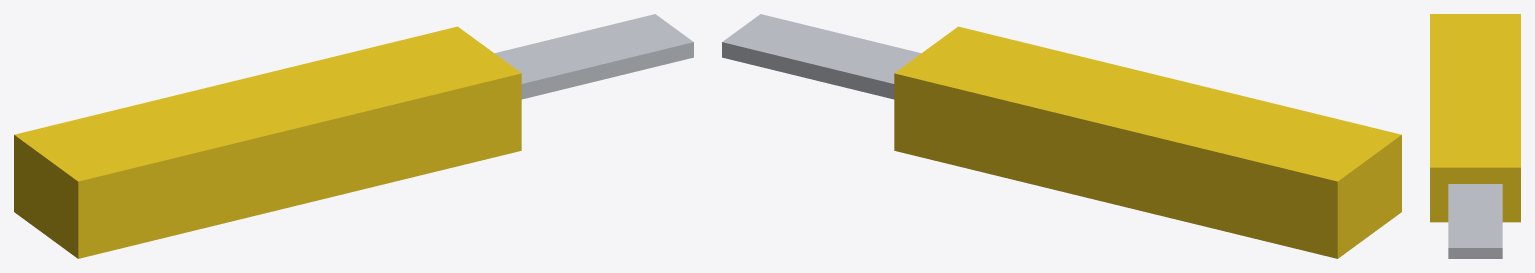
The model's file is carwash_cutter.glb.
3 renders of one model, left to right at view 1: azimuth 30°, elevation 25°; view 2: azimuth 150°, elevation 25°; view 3: azimuth 270°, elevation 25°, orthographic. The views are drawn at different scales.
Parts seen in each view (by area): view 1: handle_cutter_yellow, blade_cutter_blade; view 2: handle_cutter_yellow, blade_cutter_blade; view 3: handle_cutter_yellow, blade_cutter_blade.
Part boxes in pixels (<box>): handle_cutter_yellow: <box>14,26,521,258</box>; blade_cutter_blade: <box>495,14,693,99</box>; handle_cutter_yellow: <box>894,26,1401,258</box>; blade_cutter_blade: <box>722,14,920,99</box>; handle_cutter_yellow: <box>1430,14,1520,222</box>; blade_cutter_blade: <box>1448,184,1502,258</box>.
Bounding box in the file's own units: 0.17 × 0.02 × 0.03.
